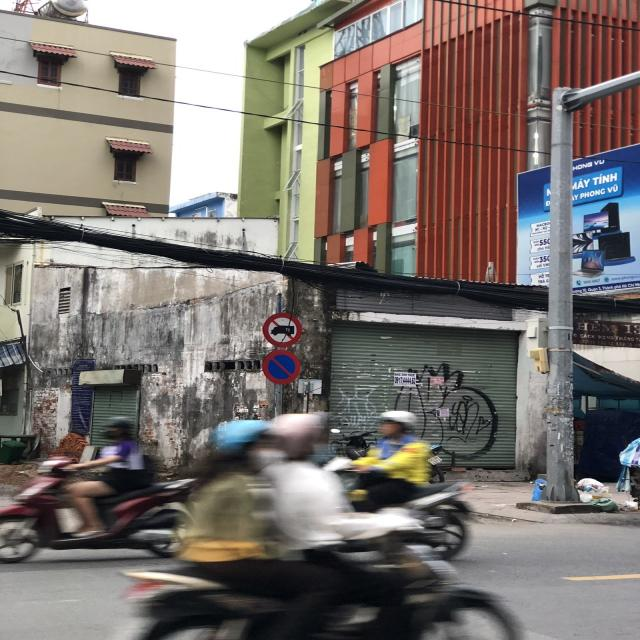Bien bao cam do xe: (259, 349, 306, 385)
Bien bao cam xe oto tai: (260, 309, 304, 348)
